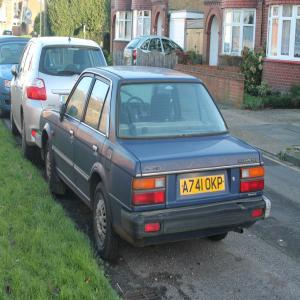Vehicle-registration-plate: (181, 175, 227, 196), (62, 97, 89, 107)
